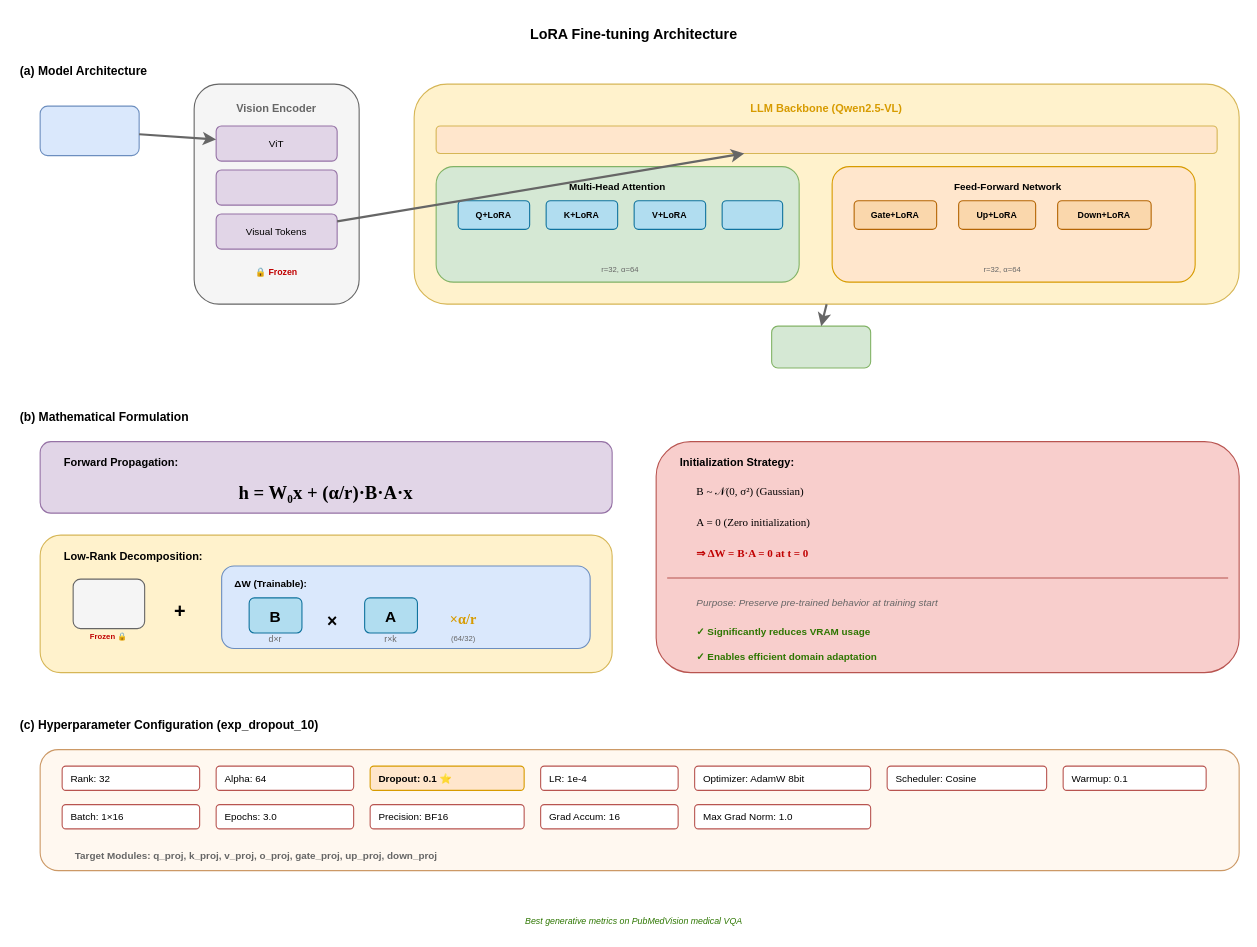
Image size: 1257x947. Some labels were removed from this diagram. Each missing label, with the centre of its shape:
Medical Image: [89,130]
Medical Report: [821,346]
O+LoRA: [752,214]
Patch Embed: [276,187]
Transformer Layer (×N): [826,139]
W₀: [108,603]
